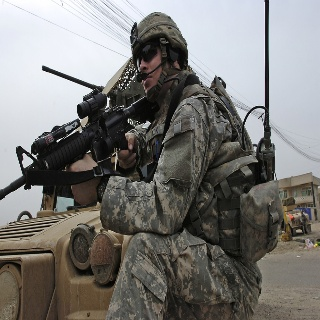rifle: (1, 90, 153, 202)
